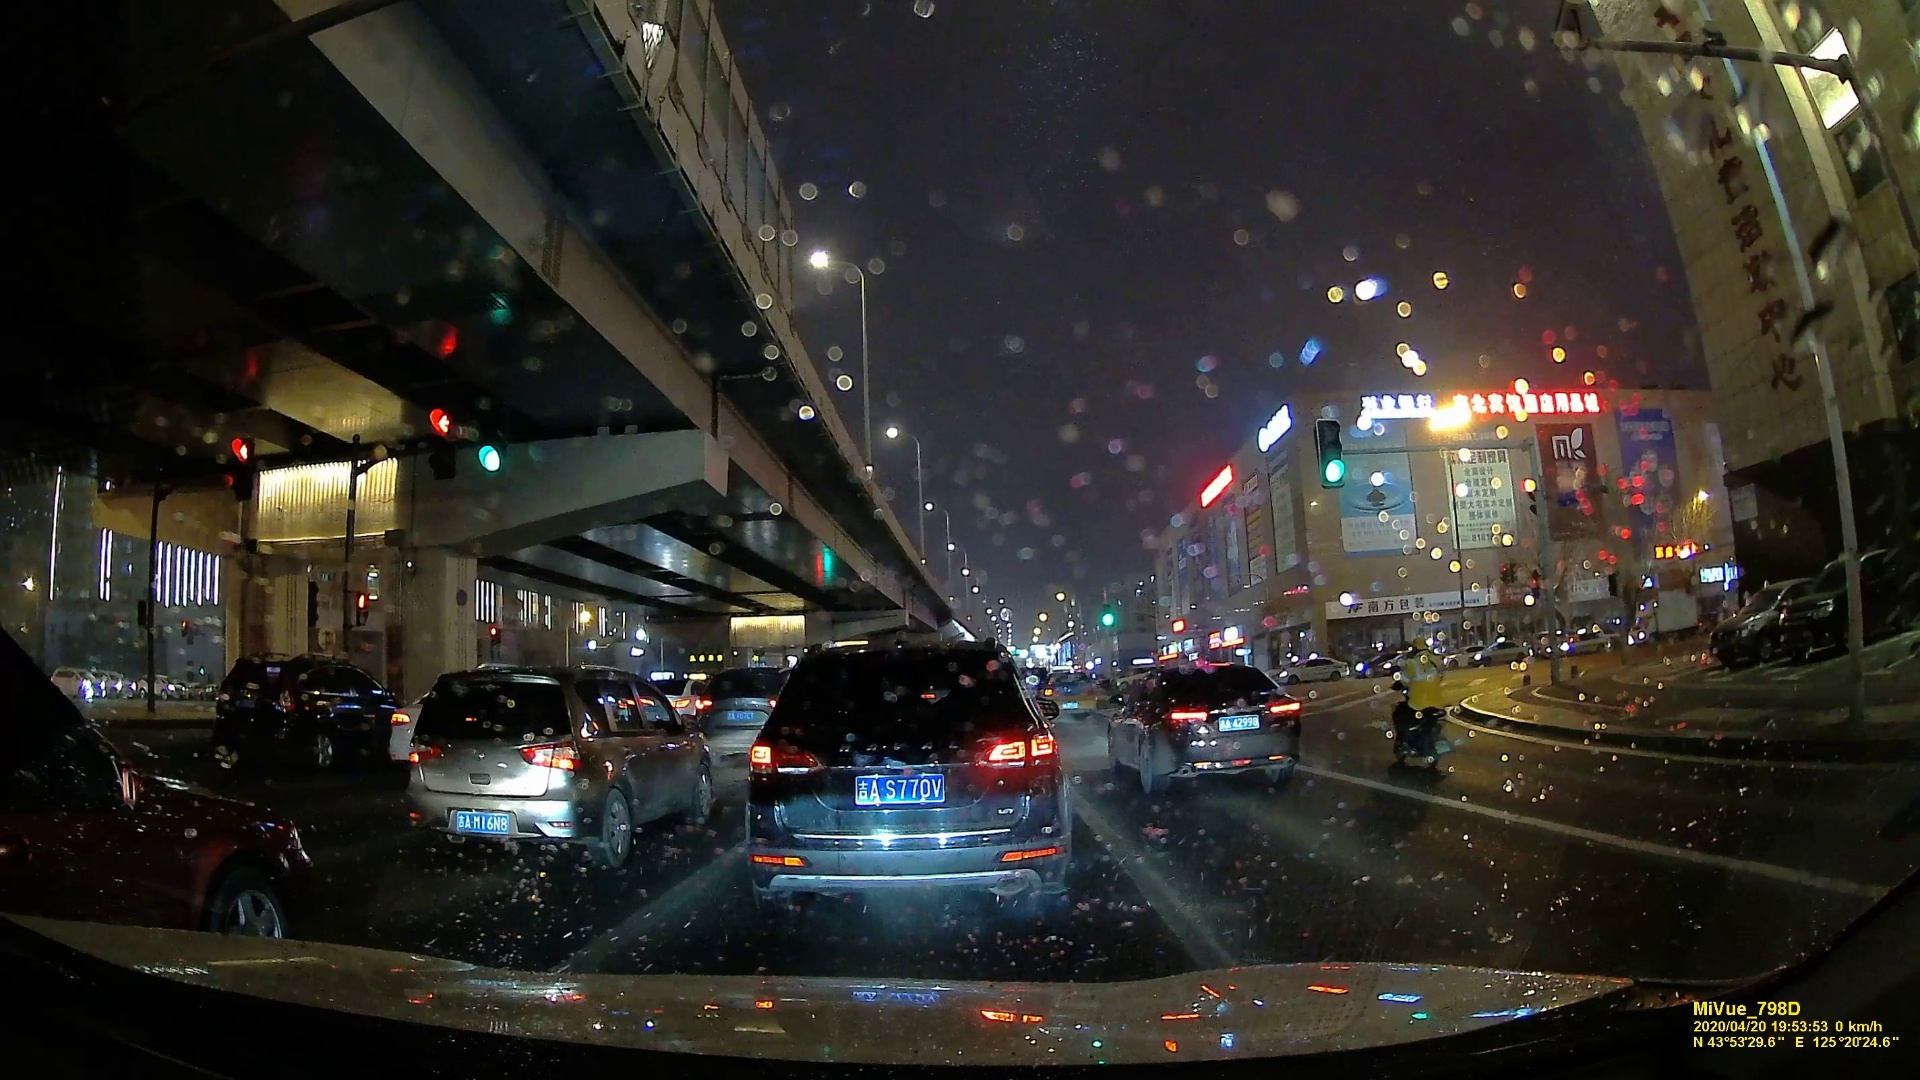person: (1390, 638, 1448, 724)
traffic_sign: (425, 402, 458, 474), (475, 400, 505, 474), (1318, 417, 1348, 488), (228, 434, 258, 494), (350, 591, 372, 628), (1101, 603, 1114, 625)
vehicle: (726, 621, 1081, 941), (3, 640, 309, 960), (397, 658, 712, 870), (1101, 656, 1306, 795), (208, 654, 402, 762)
